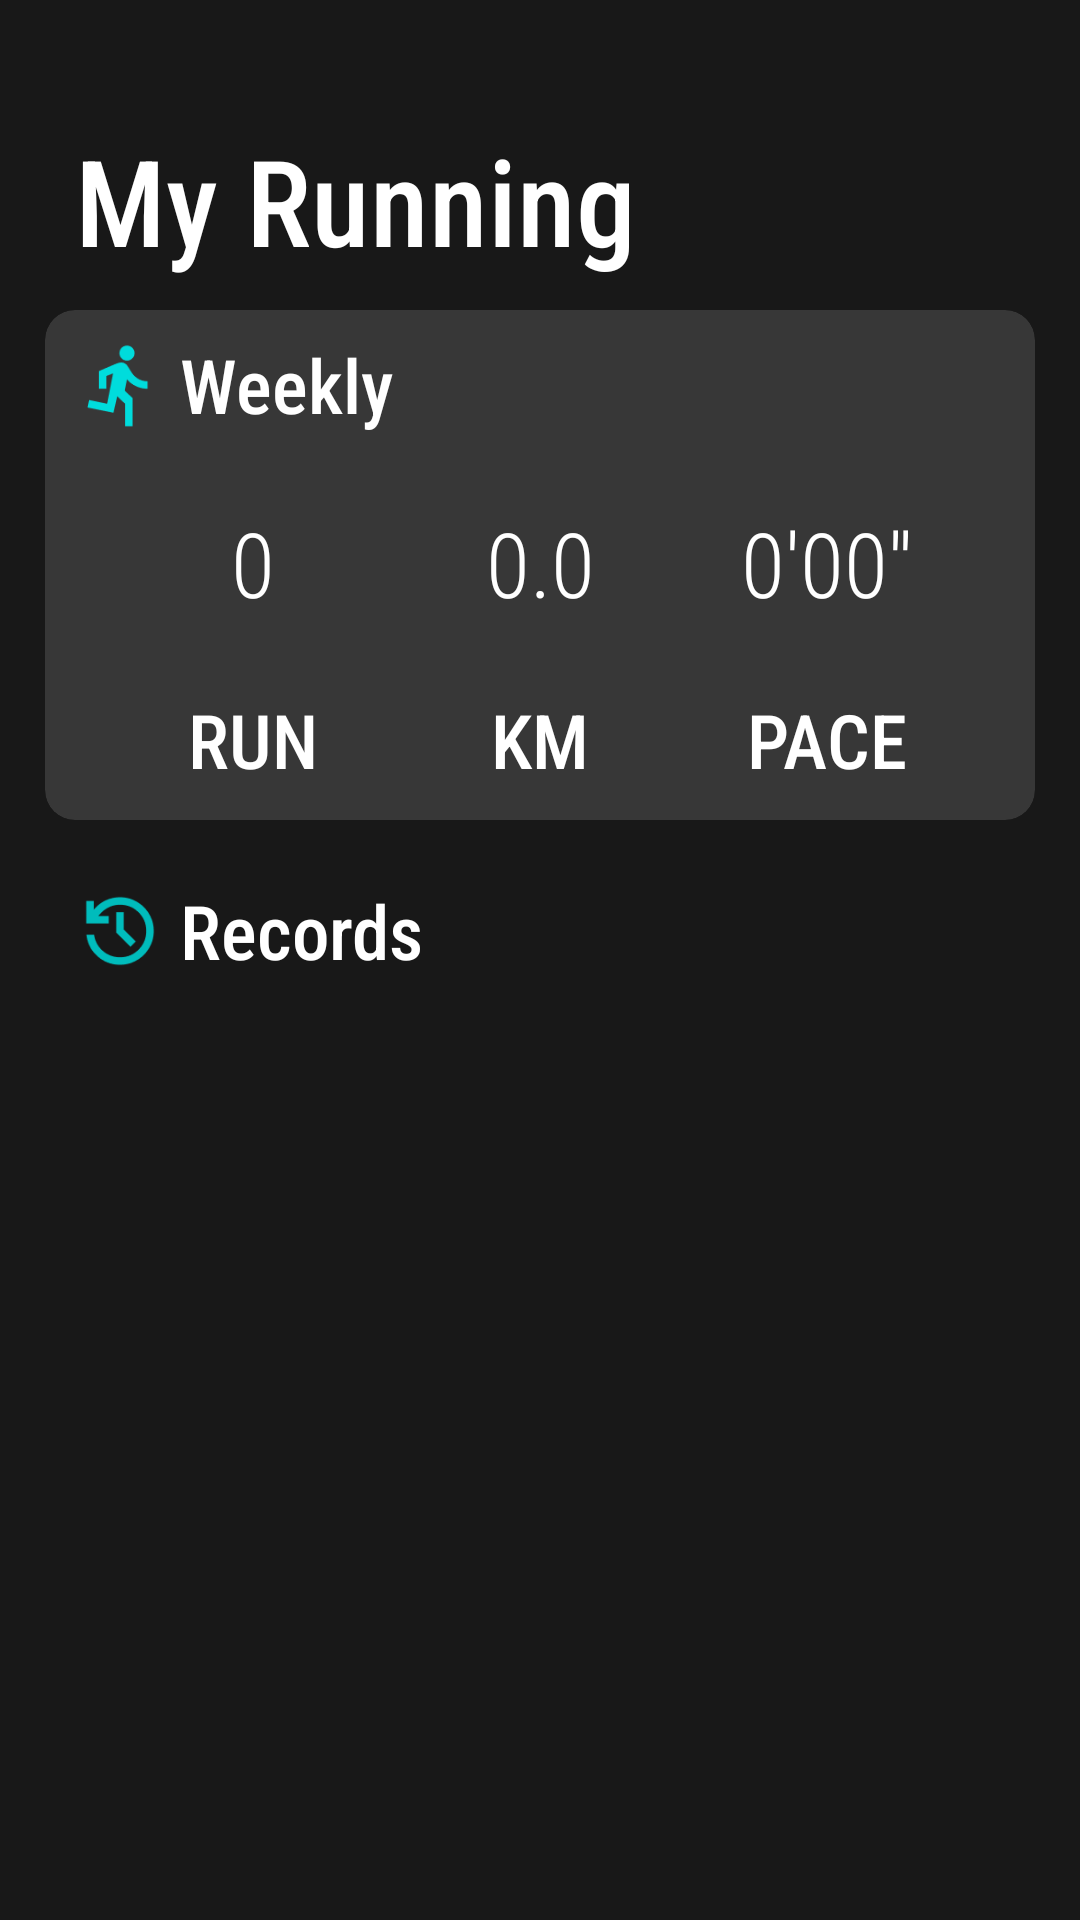

Icons on this 1080x1920 Android screen, each with its box as (x1, y1, x2, y2):
directions run: (87, 345, 148, 427)
history: (86, 897, 154, 965)
